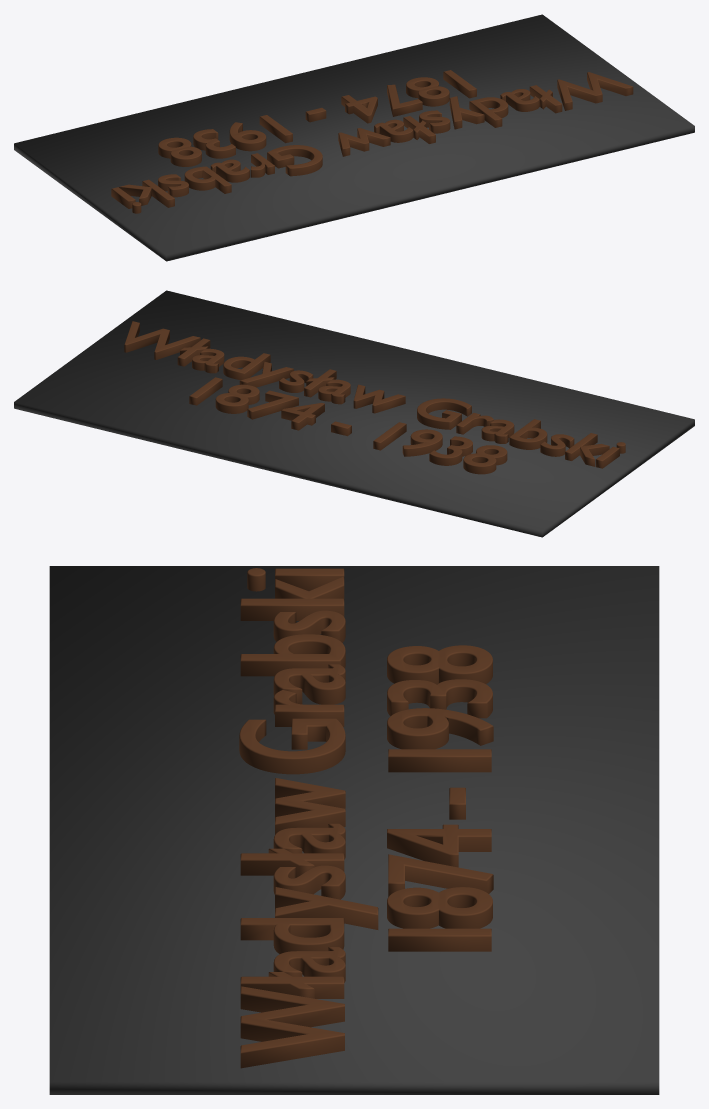
Rendered from tablica_przednia.fbx.
3 views of the same model, one above another, from view 1: azimuth 30°, elevation 25°; view 2: azimuth 150°, elevation 25°; view 3: azimuth 270°, elevation 25° (orthographic). The views are drawn at different scales.
Visible parts, largest first — view 1: tekst.001; view 2: tekst.001; view 3: tekst.001.
Part boxes in pixels (x1,y1,x2,y2): tekst.001: (14, 14, 694, 261); tekst.001: (14, 290, 694, 537); tekst.001: (49, 566, 659, 1094).
Bounding box in the file's own units: 692 × 18.25 × 346.
